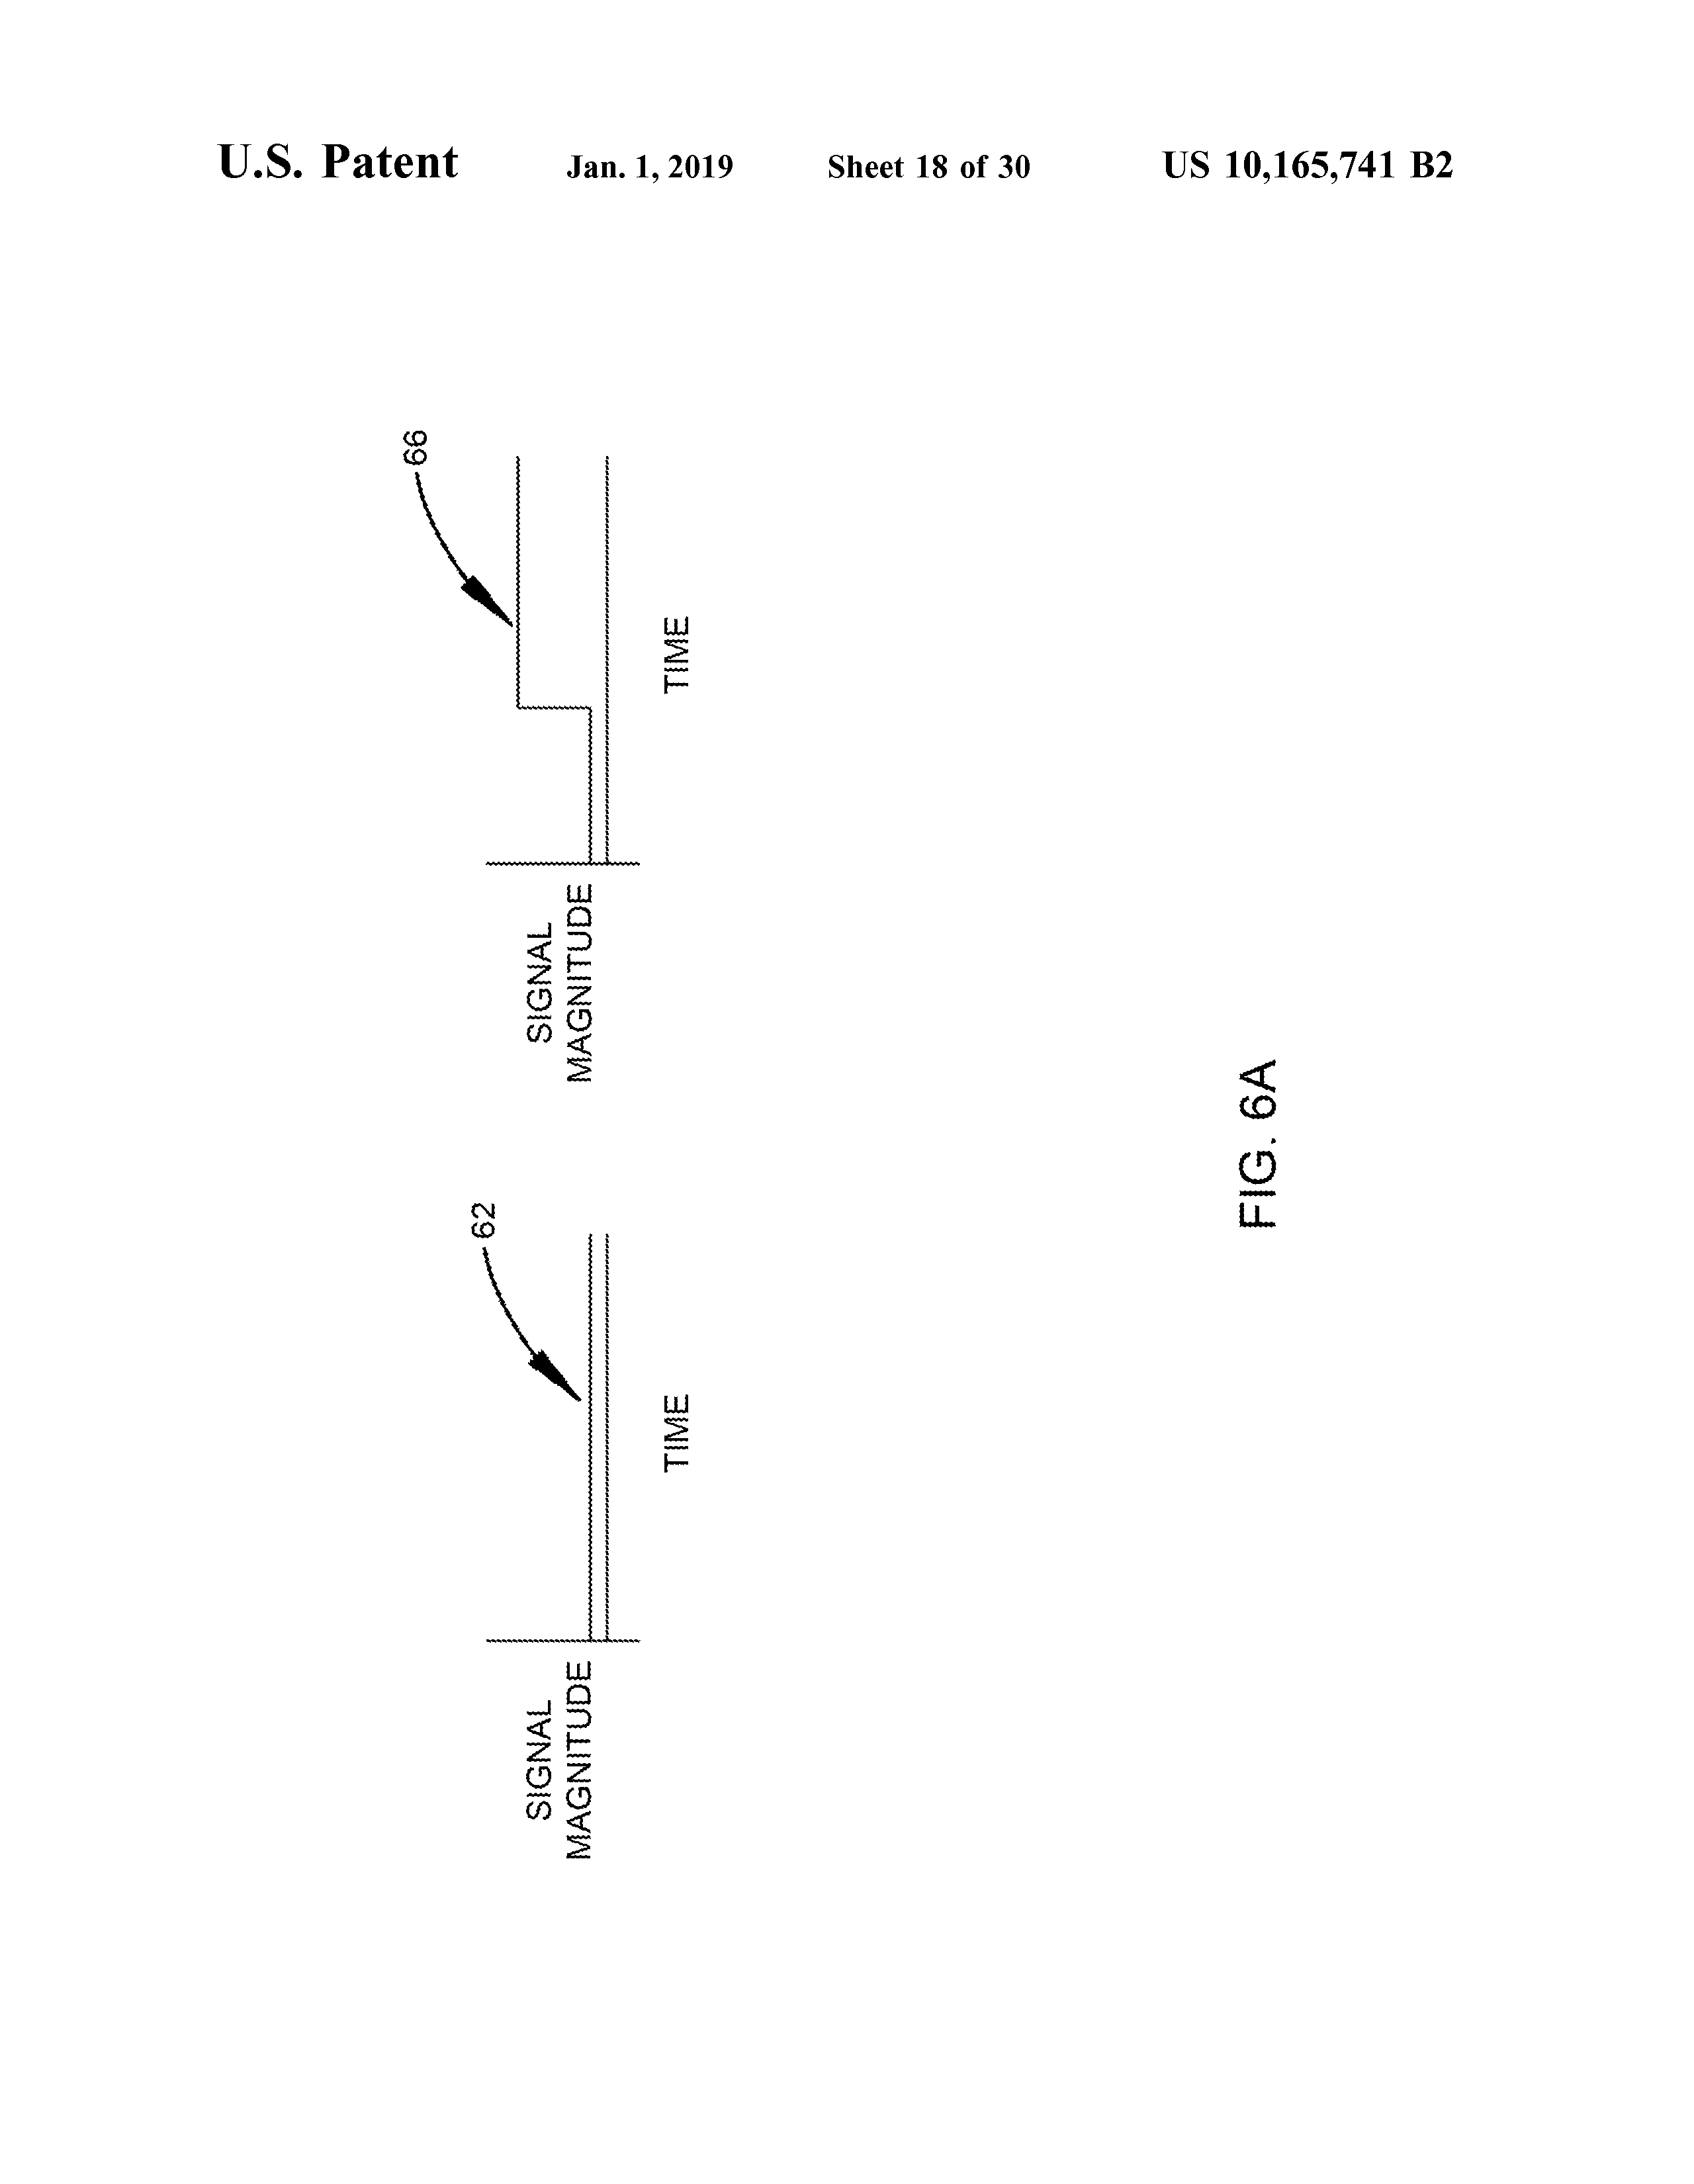patent image: (352, 355, 1298, 1922)
